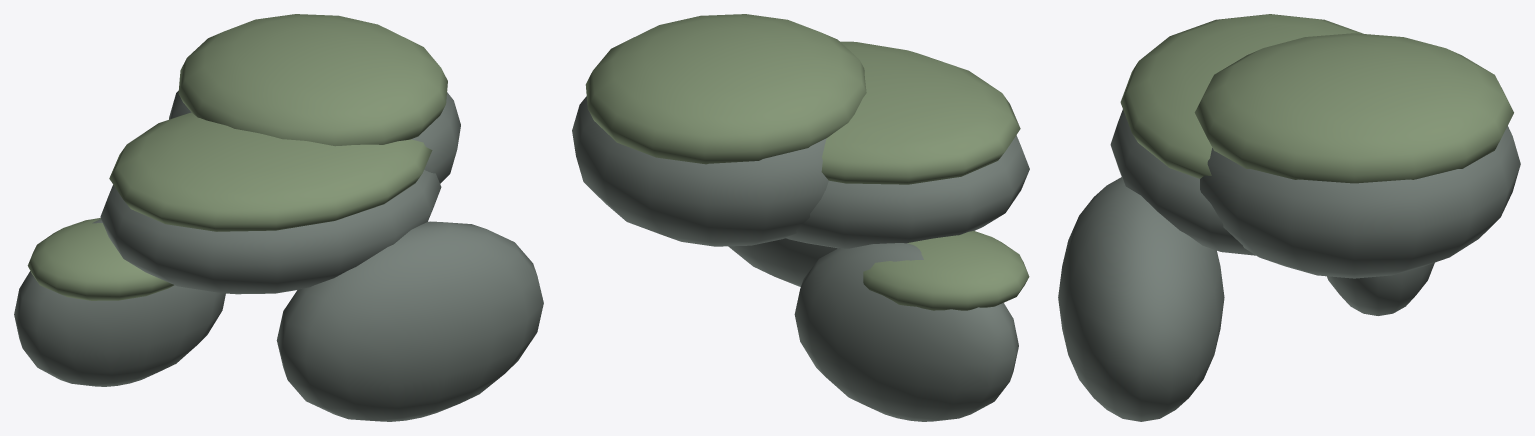
Rendered from SM_TunnelHill.fbx.
The picture shows the model from 3 angles, left to right: view 1: azimuth 30°, elevation 25°; view 2: azimuth 150°, elevation 25°; view 3: azimuth 270°, elevation 25°; orthographic projection. The views are drawn at different scales.
Visible parts, largest first — view 1: SM_TunnelHill; view 2: SM_TunnelHill; view 3: SM_TunnelHill.
Boxes of the visible parts, x1=… form: SM_TunnelHill: x1=14, y1=14, x2=543, y2=421; SM_TunnelHill: x1=572, y1=14, x2=1029, y2=421; SM_TunnelHill: x1=1058, y1=14, x2=1520, y2=421.
Size of the model in its own units: 1610 by 1390 by 1110.
